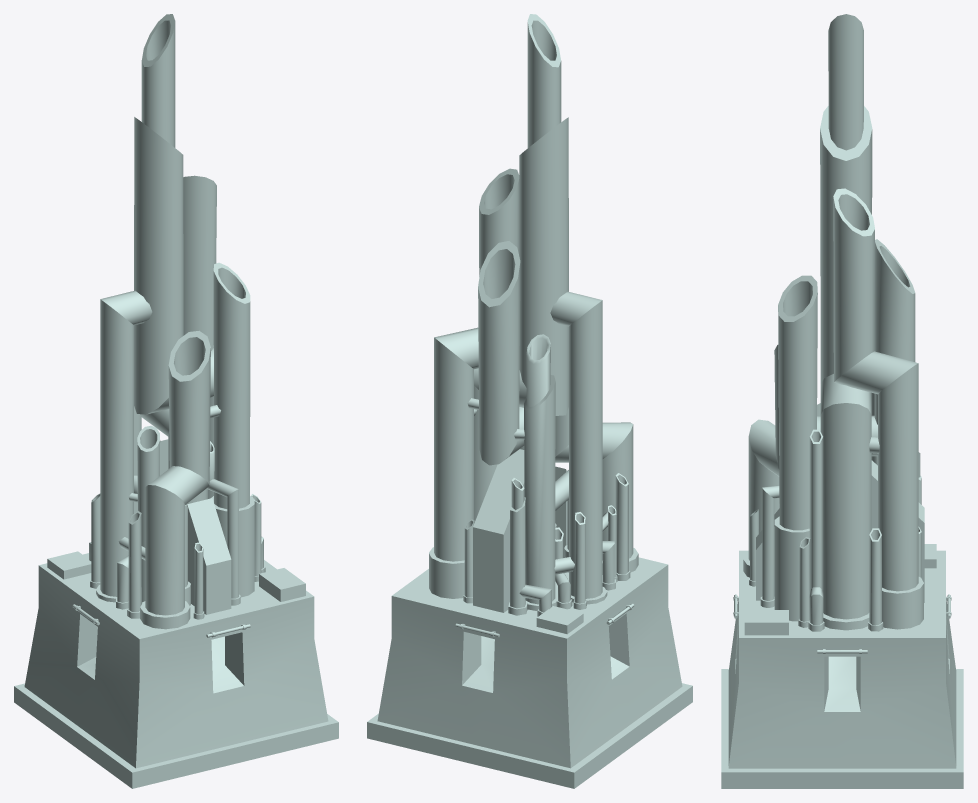
File: altaar 2 puzzle 1.fbx
3 renders of one model, left to right at view 1: azimuth 30°, elevation 25°; view 2: azimuth 150°, elevation 25°; view 3: azimuth 270°, elevation 25°, orthographic. The views are drawn at different scales.
Parts seen in each view (by area): view 1: Altaar 2 OrgalPuzzle; view 2: Altaar 2 OrgalPuzzle; view 3: Altaar 2 OrgalPuzzle.
Part boxes in pixels (box(x1,y1,x2,y2)): Altaar 2 OrgalPuzzle: box(14, 14, 338, 788); Altaar 2 OrgalPuzzle: box(367, 14, 692, 788); Altaar 2 OrgalPuzzle: box(721, 14, 963, 788).
Bounding box in the file's own units: 2.76 × 9 × 2.73.
